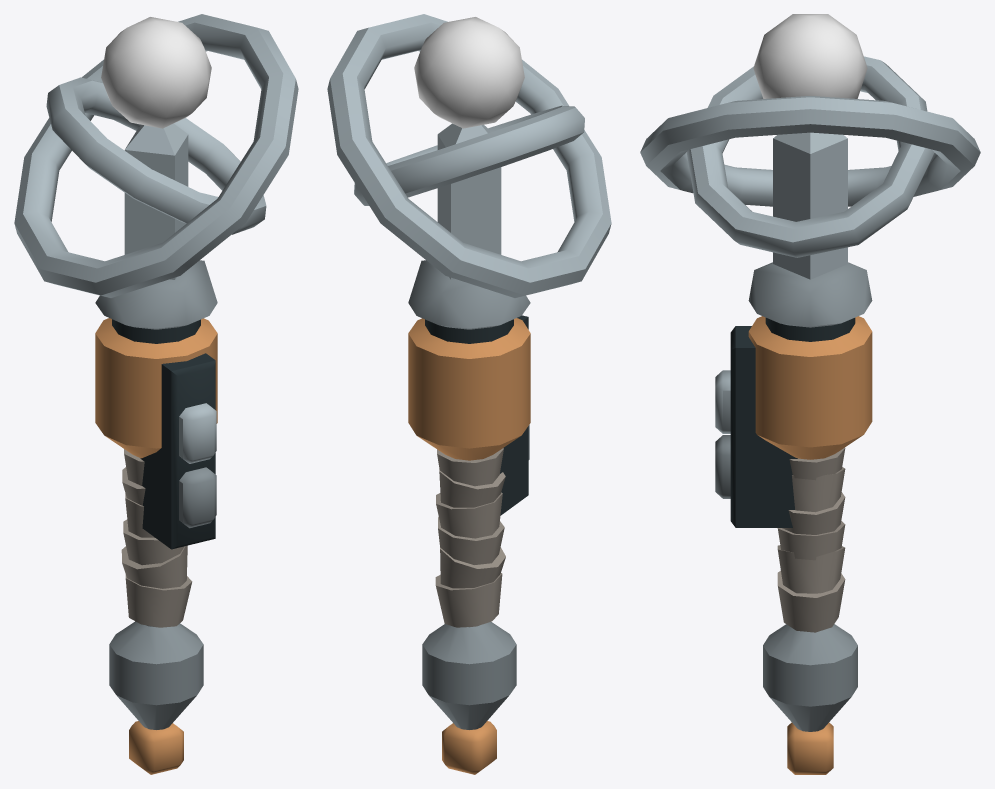
File: scrap_baton.fbx
3 renders of one model, left to right at view 1: azimuth 30°, elevation 25°; view 2: azimuth 150°, elevation 25°; view 3: azimuth 270°, elevation 25°, orthographic.
Visible parts, largest first — view 1: scrap_baton; view 2: scrap_baton; view 3: scrap_baton.
Part boxes in pixels (x1=…): scrap_baton: x1=14, y1=14, x2=298, y2=774; scrap_baton: x1=327, y1=14, x2=611, y2=774; scrap_baton: x1=640, y1=14, x2=980, y2=774.
Size of the model in its own units: 0.3109 by 0.9541 by 0.3918.
